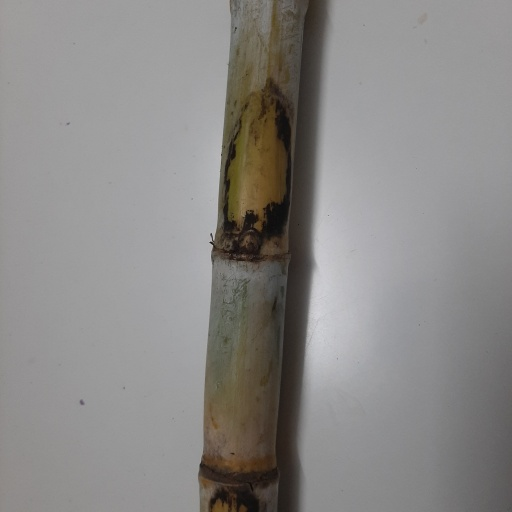Bud: (236, 228, 261, 256)
